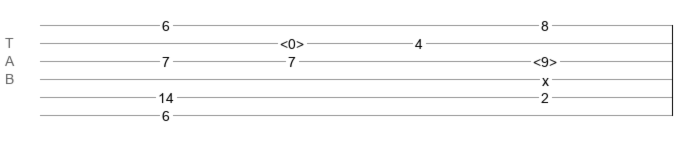14: (158, 90, 174, 100)
2: (541, 90, 549, 100)
4: (415, 36, 423, 46)
6: (162, 108, 170, 118), (162, 18, 170, 28)
7: (162, 54, 170, 64), (288, 54, 296, 64)
8: (541, 18, 549, 28)
harmonic: (280, 36, 304, 46), (533, 54, 557, 64)
x: (542, 73, 549, 81)
